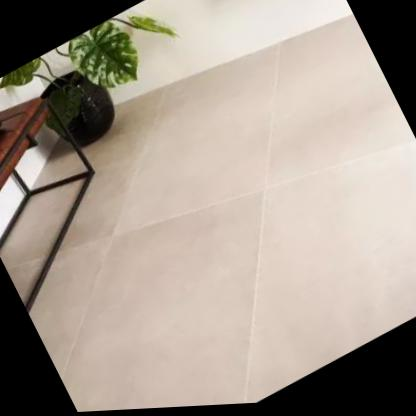Ceramic floor: (0, 17, 416, 413)
